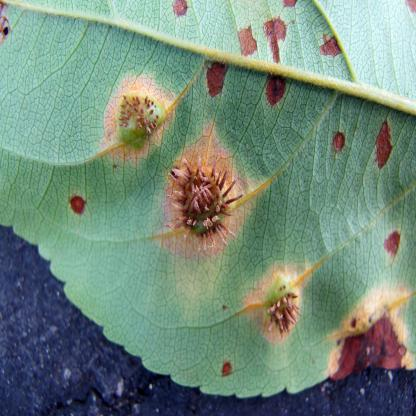apple rust leaf: (1, 1, 416, 400)
